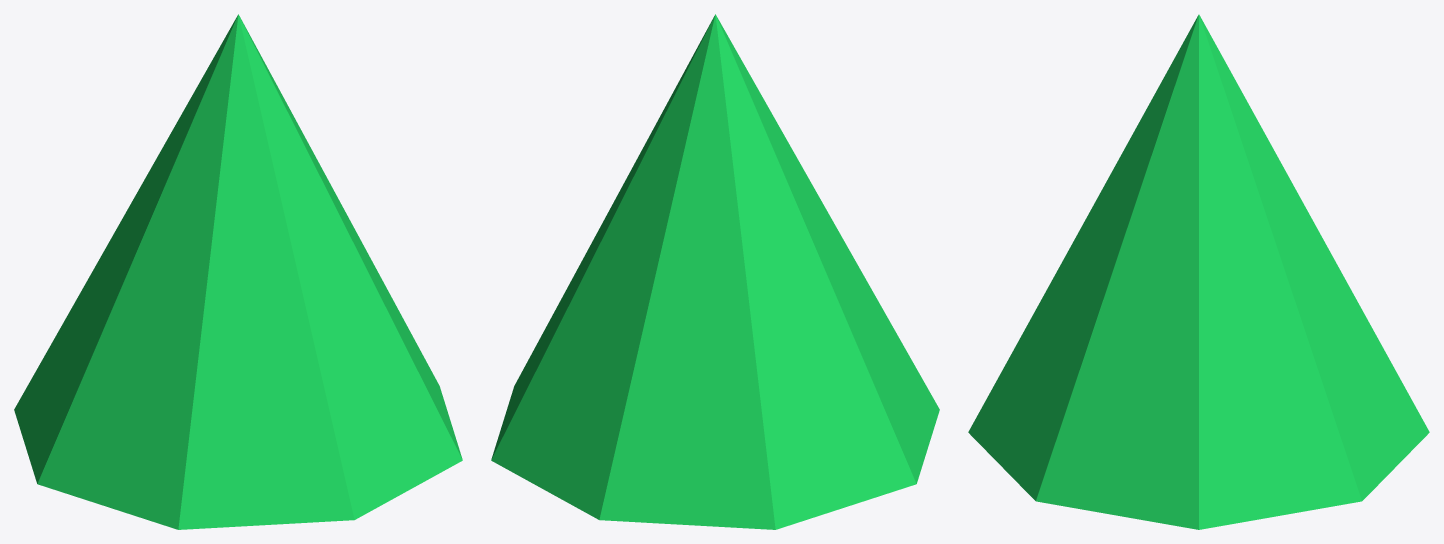
The model's file is sankausui2.fbx.
3 renders of one model, left to right at view 1: azimuth 30°, elevation 25°; view 2: azimuth 150°, elevation 25°; view 3: azimuth 270°, elevation 25°, orthographic.
Visible parts, largest first — view 1: Cone; view 2: Cone; view 3: Cone.
Boxes of the visible parts, x1,y1,x2,y2 form: Cone: [14, 14, 462, 529]; Cone: [491, 14, 939, 529]; Cone: [968, 14, 1429, 529].
Bounding box in the file's own units: 2 × 2 × 2.
